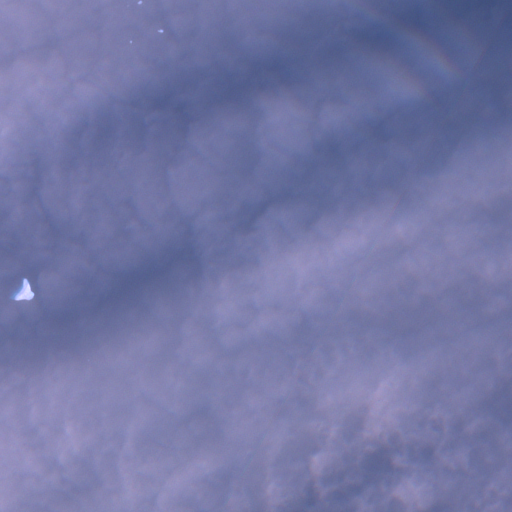Iceberg: (14, 278, 34, 300), (158, 29, 163, 32), (138, 1, 141, 3), (130, 41, 131, 42)
